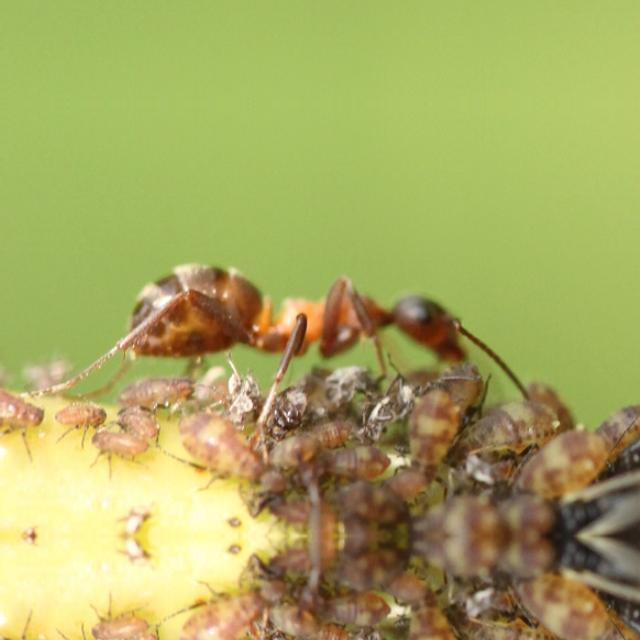Formica: (115, 234, 488, 390)
